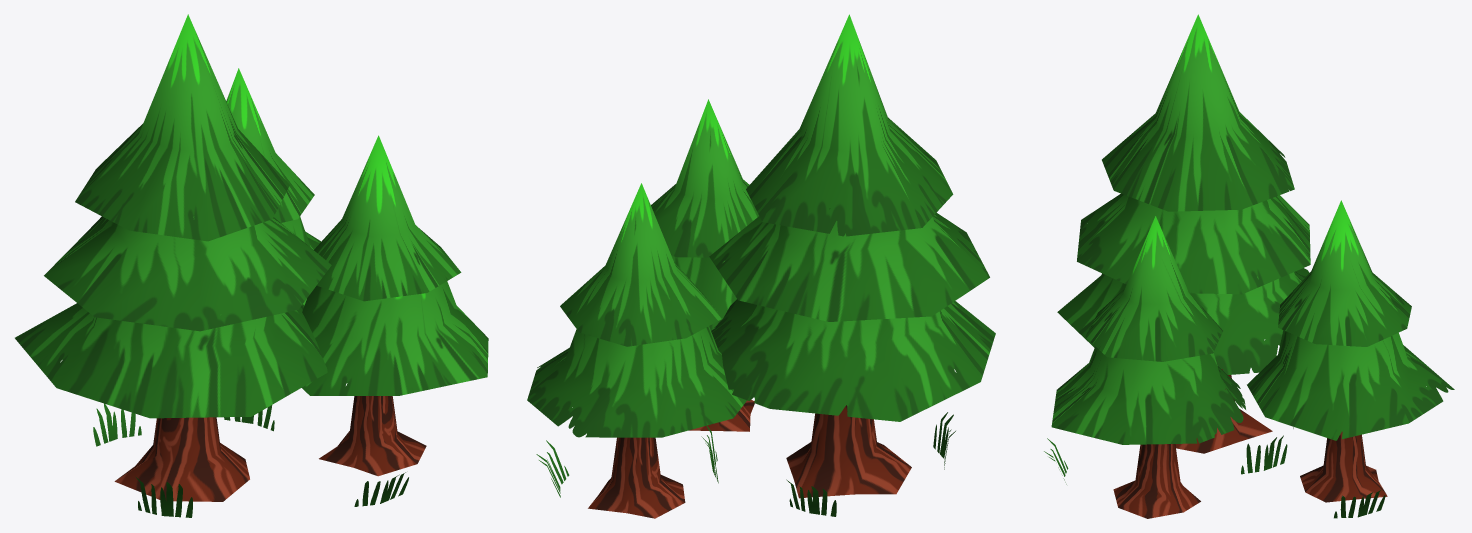
File: mod_trees.FBX
The picture shows the model from 3 angles, left to right: view 1: azimuth 30°, elevation 25°; view 2: azimuth 150°, elevation 25°; view 3: azimuth 270°, elevation 25°; orthographic projection. The views are drawn at different scales.
Visible parts, largest first — view 1: mesh_trees; view 2: mesh_trees; view 3: mesh_trees.
Part boxes in pixels (<box>): mesh_trees: <box>15,14,488,517</box>; mesh_trees: <box>527,14,995,518</box>; mesh_trees: <box>1044,14,1454,518</box>.
Size of the model in its own units: 57.35 by 65.11 by 61.69.
